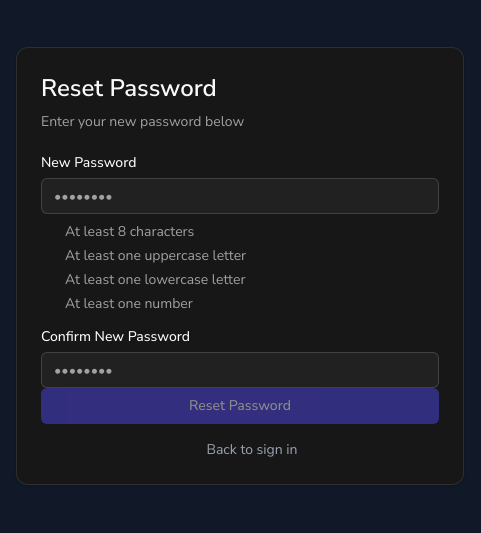
Test case: ResetPasswordPage › validates password match in real-time
Step 1. Type "ValidPass1" into the password field labelled "New Password" → (240, 196), box [41, 178, 439, 214]
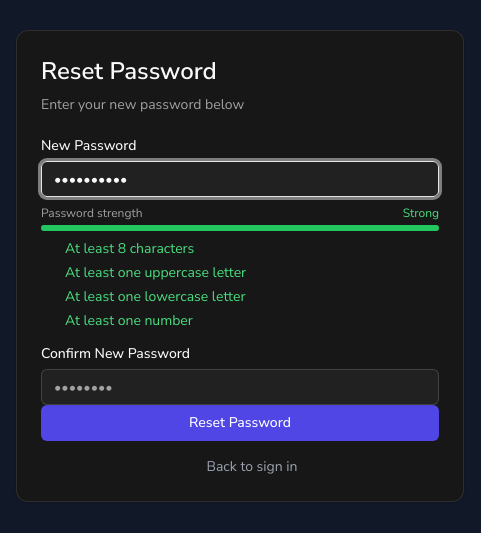
Step 2. Type "DifferentPass1" into the password field labelled "Confirm New Password" → (240, 387), box [41, 369, 439, 405]
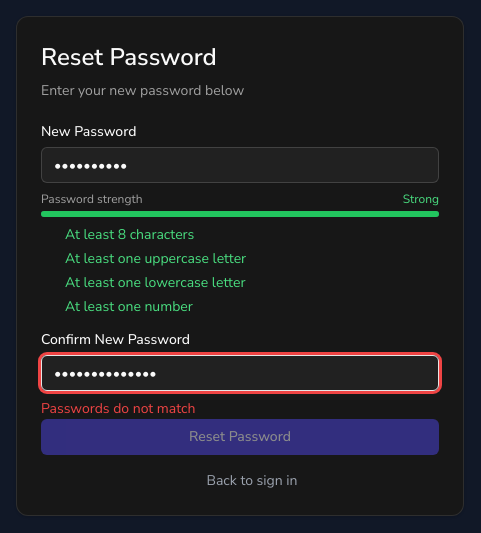
Now the text "Passwords do not match" is shown, box [41, 399, 196, 418]
